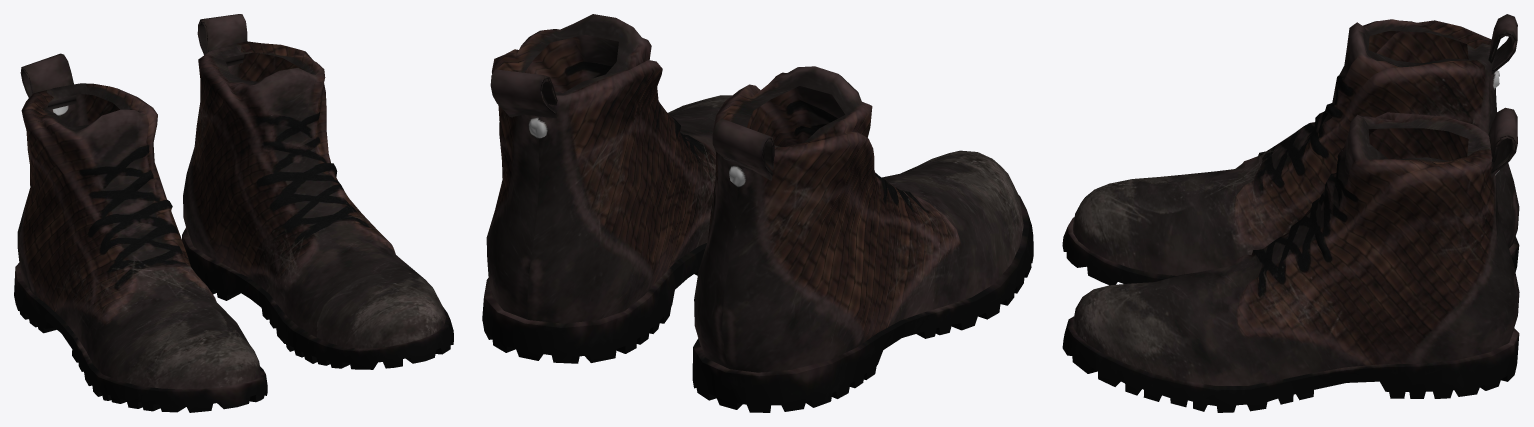
File: manShoe1.obj
3 renders of one model, left to right at view 1: azimuth 30°, elevation 25°; view 2: azimuth 150°, elevation 25°; view 3: azimuth 270°, elevation 25°, orthographic. The views are drawn at different scales.
Parts seen in each view (by area): view 1: Boots; view 2: Boots; view 3: Boots.
Part boxes in pixels (<box>): Boots: <box>14,14,453,412</box>; Boots: <box>482,14,1033,412</box>; Boots: <box>1062,14,1519,412</box>.
Bounding box in the file's own units: 29.54 × 19.57 × 31.44.
